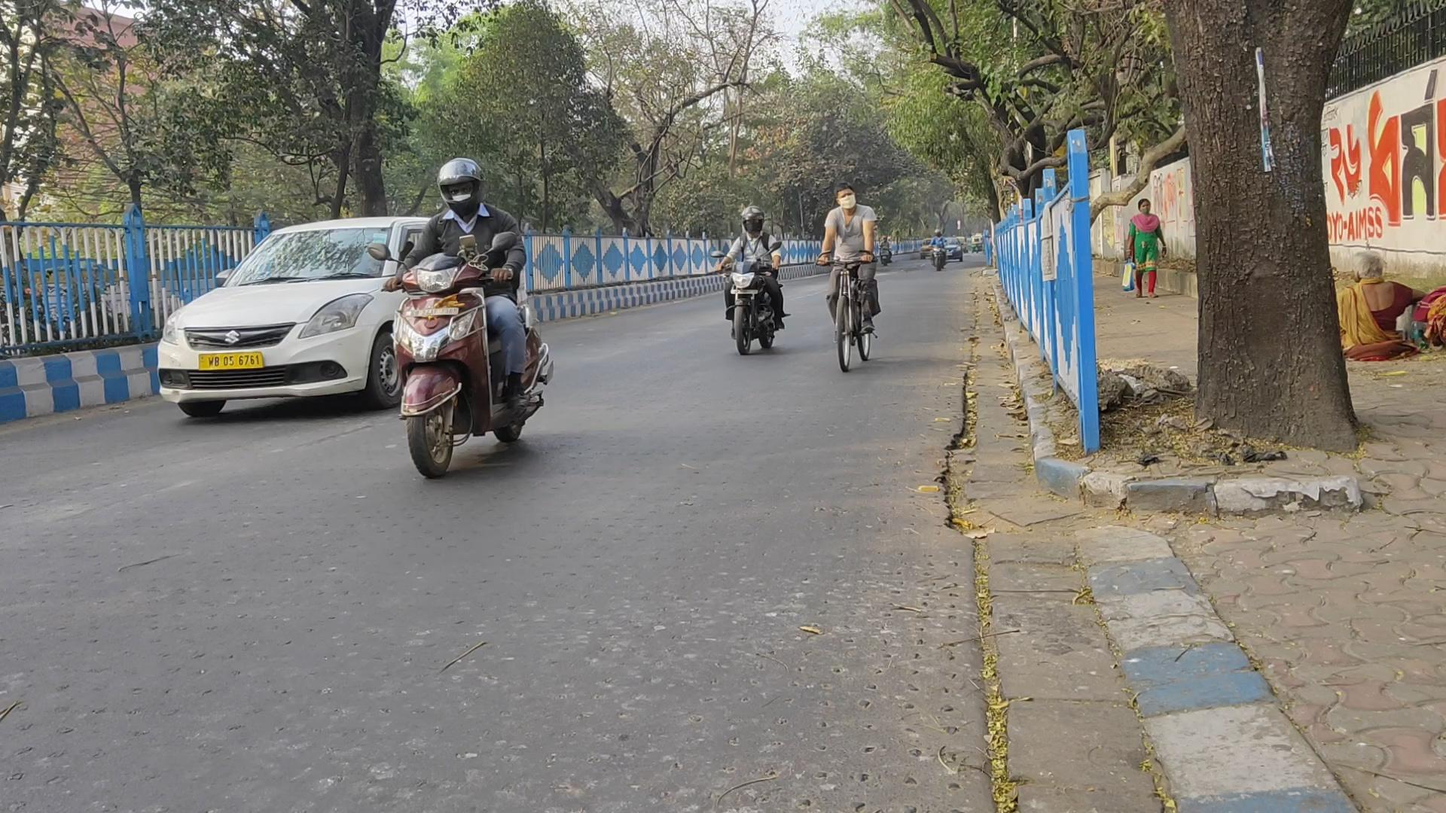bike: (369, 157, 555, 479), (709, 204, 787, 355), (818, 184, 880, 373), (929, 229, 948, 272), (879, 236, 892, 266)
car: (156, 215, 434, 420), (933, 236, 963, 262)
